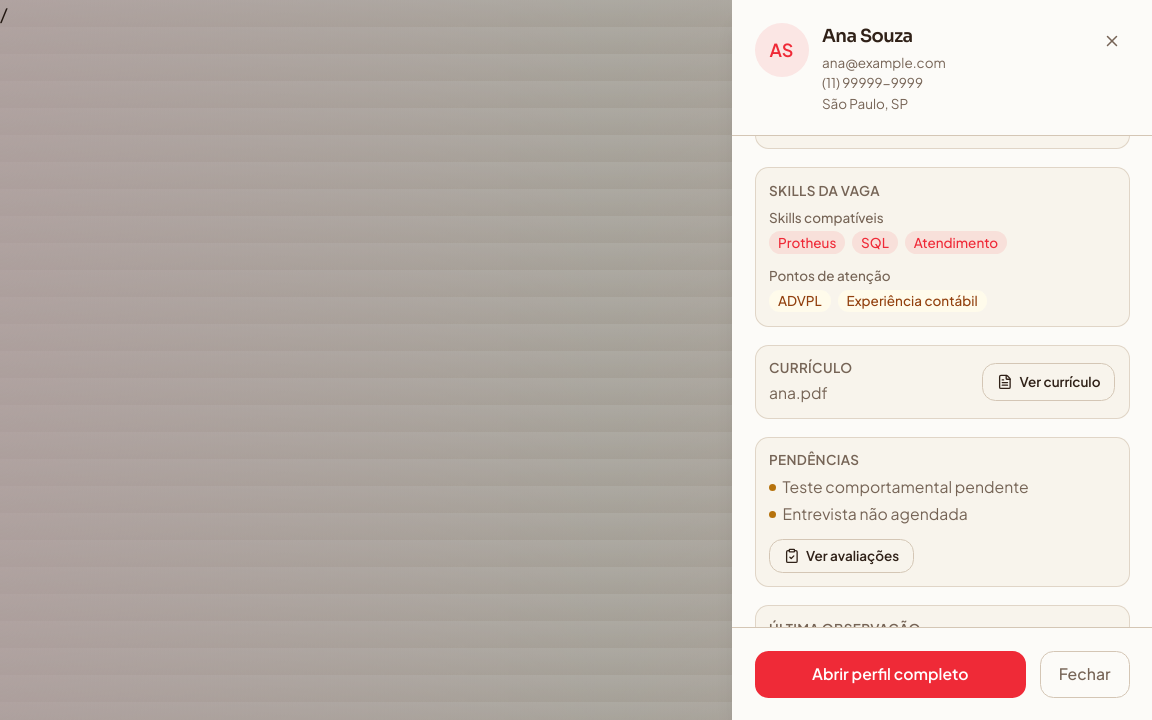
Test: CandidatePreviewDrawer › navega para documentos ao clicar Ver currículo mesmo quando há URL direta
(page scrolled)
Click the button "Ver currículo" at (1049, 382), box [982,363,1115,401]
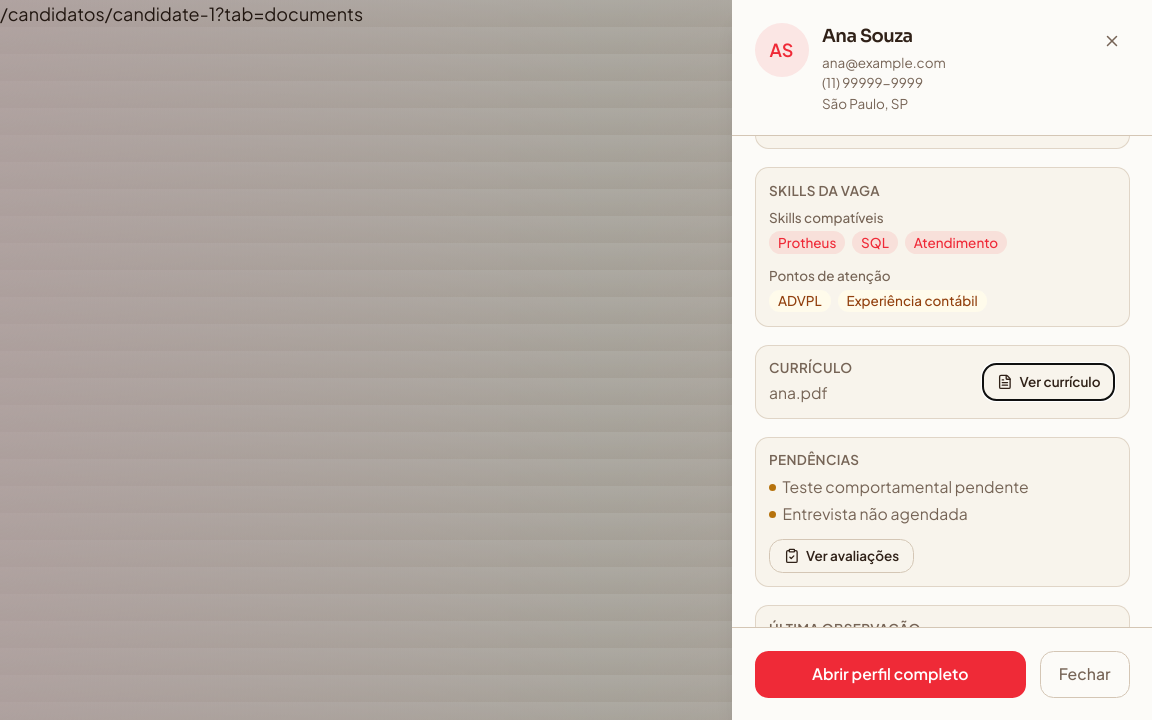
Expected: the text with test id "location" reads "/candidatos/candidate-1?tab=documents", [0,2,363,25]
